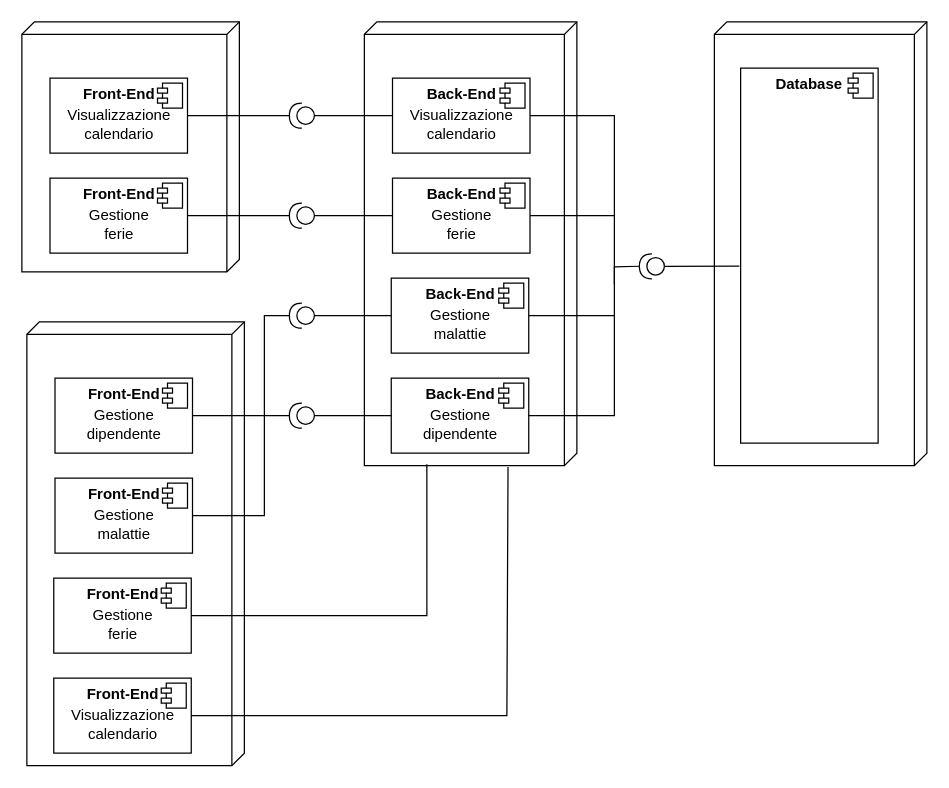
Image size: 949x788. Some labels were removed from this diagram. Each missing label, with the box of its shape:
App Android: (26, 321, 244, 766)
Browser: (21, 21, 239, 272)
PostGreSQL: (713, 21, 927, 466)
Server web: (363, 21, 577, 466)
